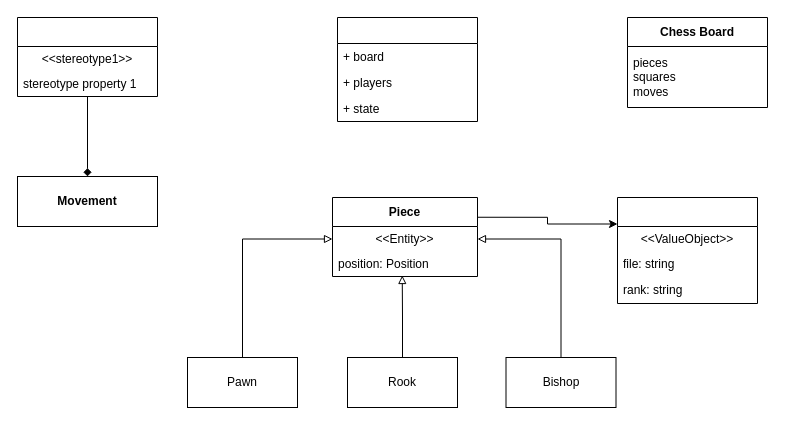
Image size: 785x425. Some labels were removed from this diagram. The box of each missing label's shape, as (x1, y1, x2, y2) in pixels:
Chess Game: (336, 16, 478, 122)
ChessGameHistory: (16, 16, 158, 96)
Position: (616, 196, 758, 304)
